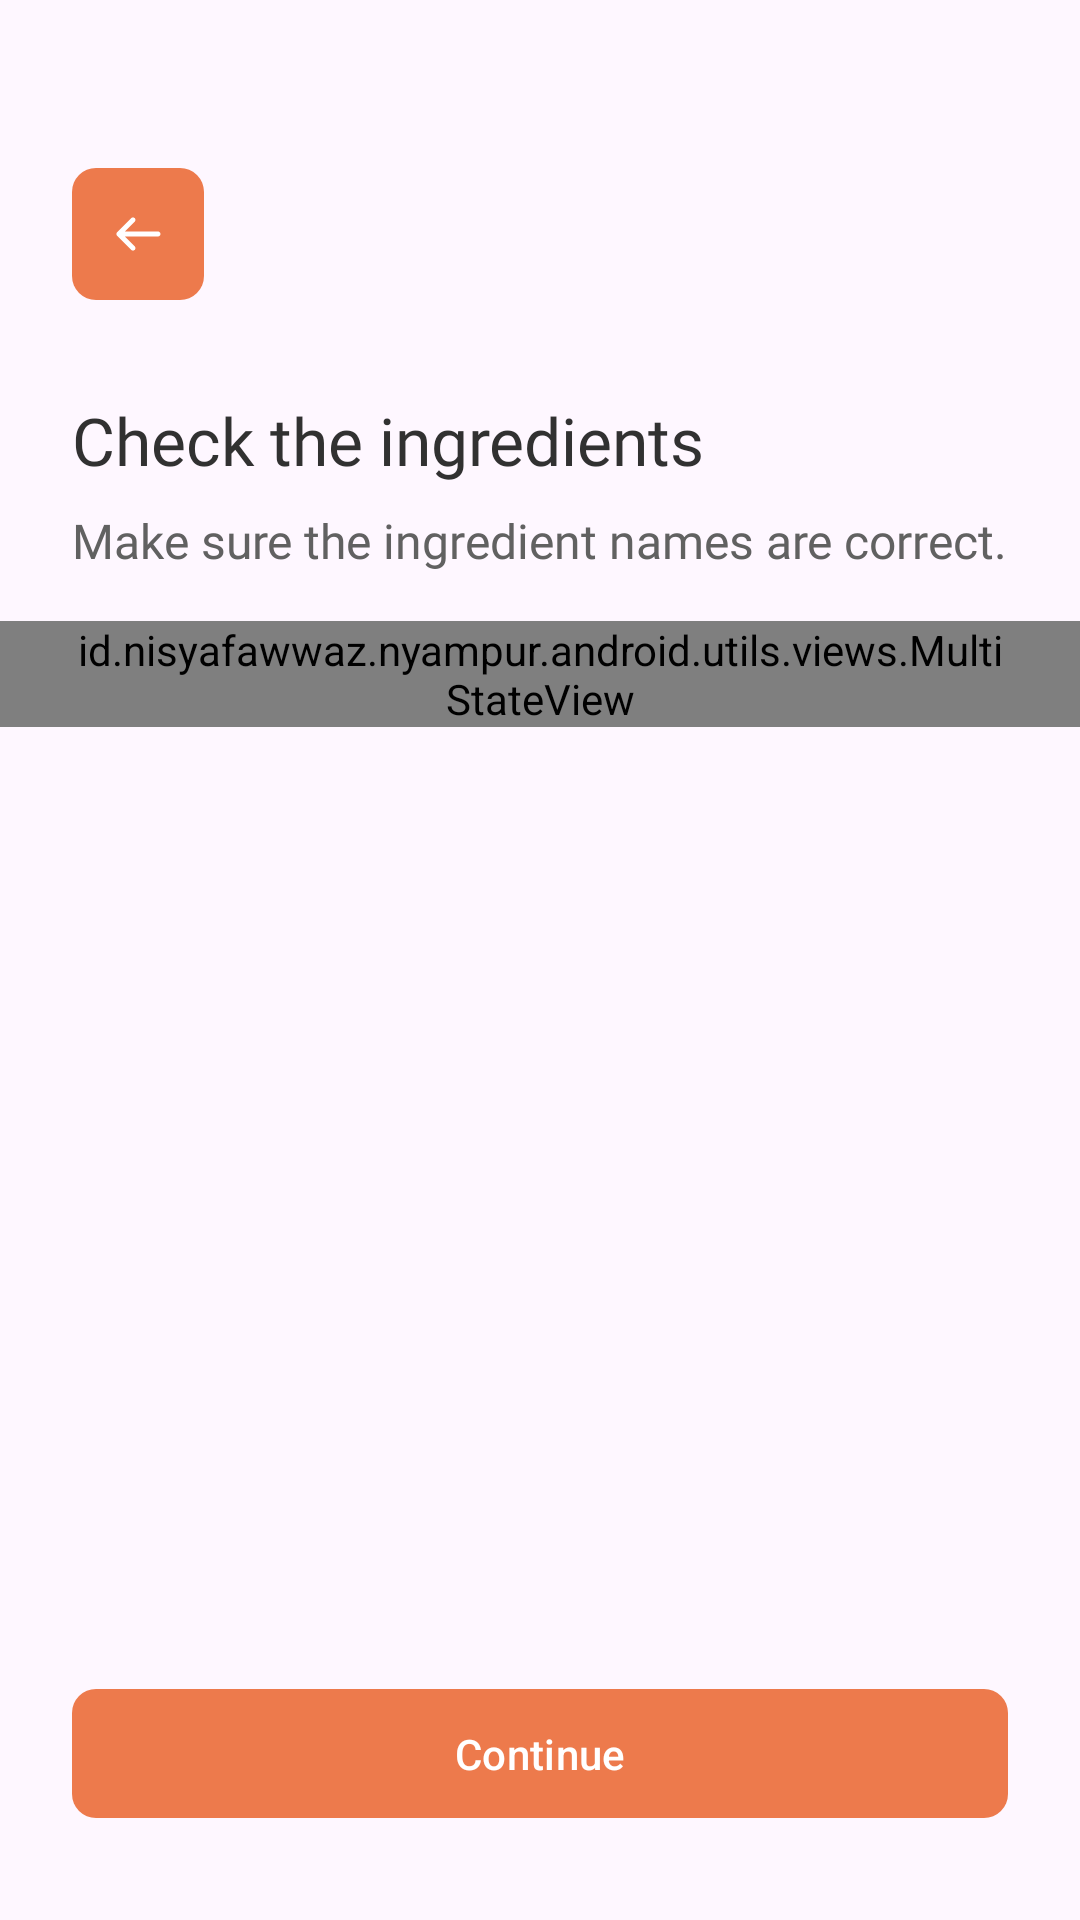

Screen size 1080×1920. Icon name, then its box in pixels as (x1, y1, x2, y2):
back: (72, 168, 204, 300)
